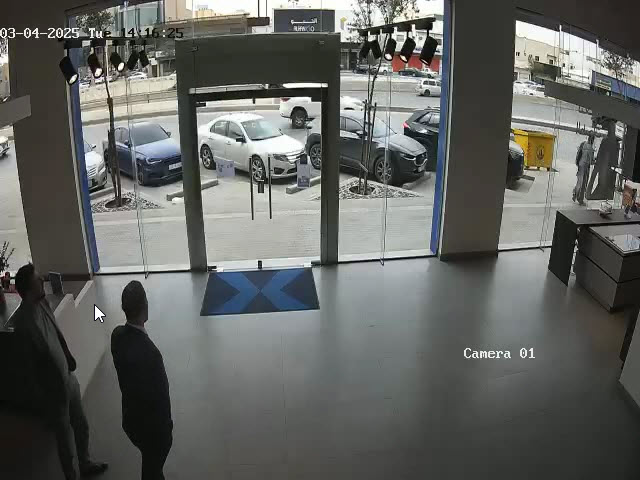employee: (110, 280, 174, 480)
male: (6, 263, 109, 478), (572, 133, 596, 206)
